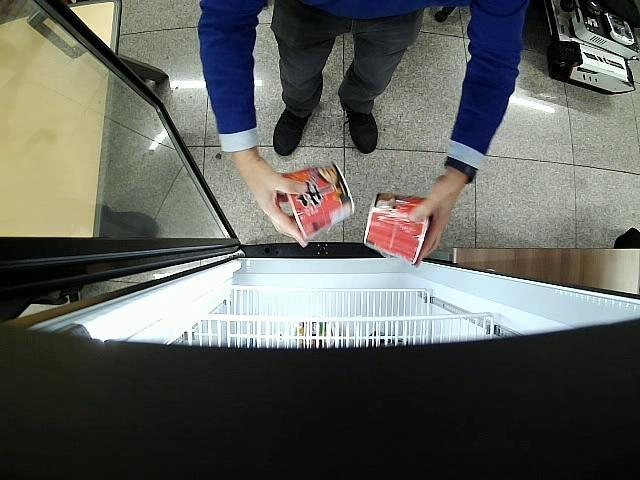01_ShinRamen_L: (276, 162, 356, 243), (363, 191, 430, 265)
